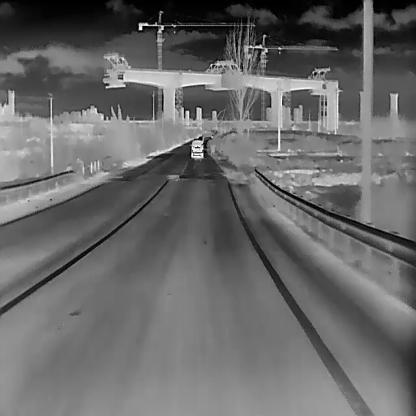car: (190, 137, 203, 157)
